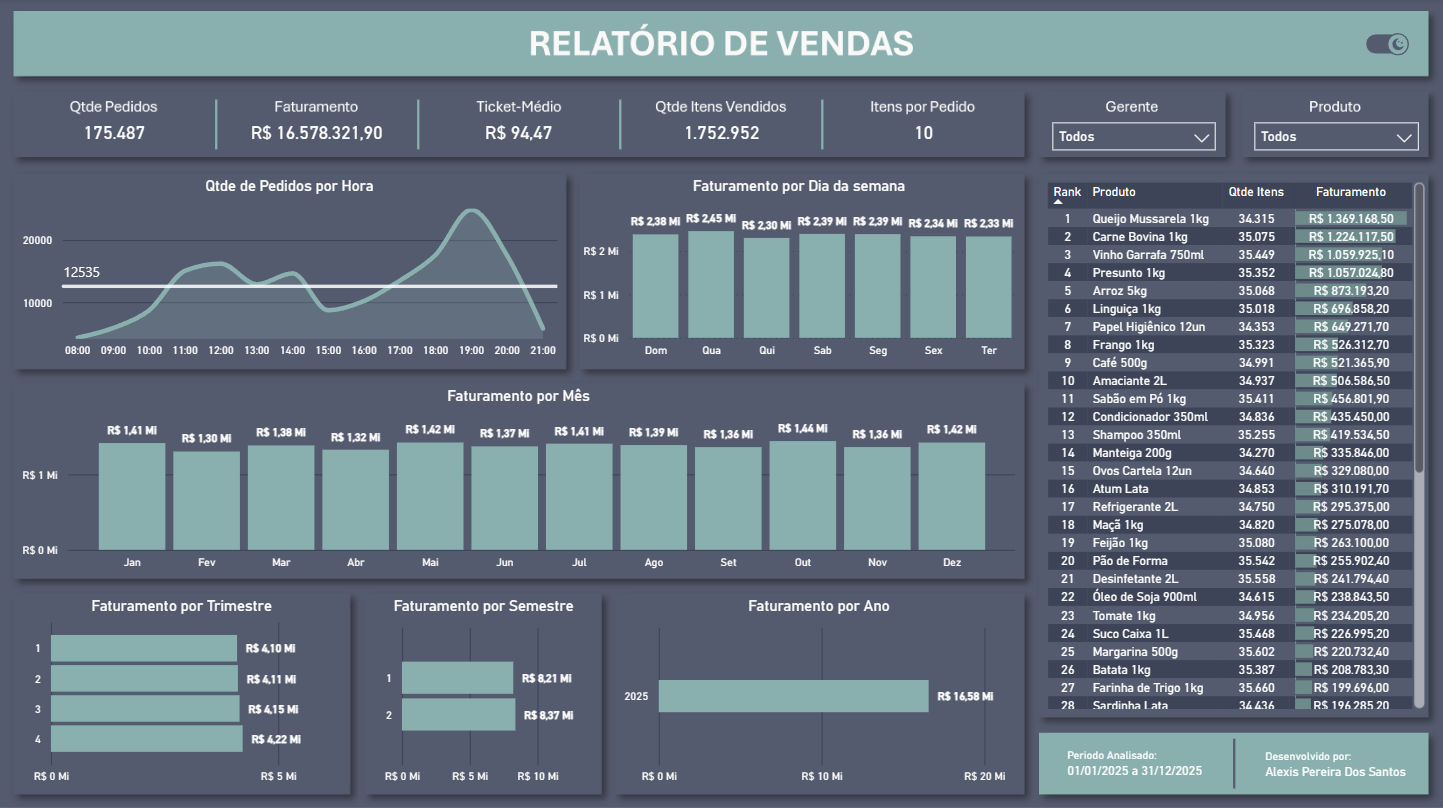

The page's visual inventory and layout, read from the dashboard file:
{"tool":"powerbi","page":{"name":"RELATORIO_BI_Dark","canvas":[1280,720],"ordinal":1},"visuals":[{"type":"columnChart","title":"Faturamento por Dia da semana","fields":{"Category":["gold dim_calendario.dia_nome"],"Y":["gold fato_vendas.Faturamento"]},"box":[511.8,158.2,393.6,167.3],"z":0},{"type":"cardVisual","fields":{"Data":["gold fato_vendas.Faturamento"]},"box":[193.8,95,173,44],"z":1000},{"type":"cardVisual","fields":{"Data":["gold fato_vendas.QTD_PEDIDOS"]},"box":[14.7,95,172.7,44],"z":2000},{"type":"cardVisual","fields":{"Data":["gold fato_vendas.QTD_ITENS"]},"box":[553.2,95,173,44],"z":3000},{"type":"cardVisual","fields":{"Data":["gold fato_vendas.ITENS_P_PEDIDO"]},"box":[732.7,95,173.3,44],"z":4000},{"type":"cardVisual","fields":{"Data":["gold fato_vendas.TICKET_MÉDIO"]},"box":[373.3,95,173.3,44],"z":5000},{"type":"columnChart","title":"Faturamento por Mês","fields":{"Category":["gold dim_calendario.mes_abreviado"],"Y":["gold fato_vendas.Faturamento"]},"box":[14.4,343.8,891.2,169.4],"z":6000},{"type":"clusteredBarChart","title":"Faturamento por Ano","fields":{"Category":["gold dim_calendario.ano"],"Y":["gold fato_vendas.Faturamento"]},"box":[547.5,530.6,358.1,172.5],"z":7000},{"type":"clusteredBarChart","title":"Faturamento por Semestre","fields":{"Category":["gold dim_calendario.semestre"],"Y":["gold fato_vendas.Faturamento"]},"box":[325,530.6,206.9,172.5],"z":8000},{"type":"slicer","fields":{"Values":["gold dim_lojas.gerente"]},"box":[922.9,99.2,165.3,39.5],"z":9000},{"type":"slicer","fields":{"Values":["gold dim_produtos.produto"]},"box":[1101.8,99.2,165.8,39.5],"z":10000},{"type":"clusteredBarChart","title":"Faturamento por Trimestre","fields":{"Category":["gold dim_calendario.trimestre"],"Y":["gold fato_vendas.Faturamento"]},"box":[14.4,530.6,293.8,172.5],"z":11000},{"type":"image","box":[1210,30,40,20],"z":12000},{"type":"tableEx","fields":{"Values":["gold fato_vendas.RANK_PROD","gold dim_produtos.produto","gold fato_vendas.QTD_ITENS","gold fato_vendas.Faturamento"]},"box":[922.7,158.2,344.5,476.4],"z":13000},{"type":"cardVisual","fields":{"Data":["gold dim_calendario.data_inicio"]},"box":[928.7,657.2,156.7,41.4],"z":14000},{"type":"cardVisual","fields":{"Data":["gold dim_calendario.Desenvolvido"]},"box":[1105,658,161,41],"z":15000},{"type":"lineChart","title":"Qtde de Pedidos por Hora","fields":{"Category":["gold fato_vendas.inicio_hora"],"Y":["gold fato_vendas.QTD_PEDIDOS"]},"box":[14.4,158.1,485,167.5],"z":16000}]}

Visuals, with their boxes in screenshot pixels (x1, y1, x2, y2), scaled from the page's 1280x720 canvas onto the 1443x808 screenshot:
"Faturamento por Dia da semana" columnChart: x1=577 y1=178 x2=1021 y2=365
cardVisual - gold fato_vendas.Faturamento: x1=218 y1=107 x2=414 y2=156
cardVisual - gold fato_vendas.QTD_PEDIDOS: x1=17 y1=107 x2=211 y2=156
cardVisual - gold fato_vendas.QTD_ITENS: x1=624 y1=107 x2=819 y2=156
cardVisual - gold fato_vendas.ITENS_P_PEDIDO: x1=826 y1=107 x2=1021 y2=156
cardVisual - gold fato_vendas.TICKET_MÉDIO: x1=421 y1=107 x2=616 y2=156
"Faturamento por Mês" columnChart: x1=16 y1=386 x2=1021 y2=576
"Faturamento por Ano" clusteredBarChart: x1=617 y1=595 x2=1021 y2=789
"Faturamento por Semestre" clusteredBarChart: x1=366 y1=595 x2=600 y2=789
slicer - gold dim_lojas.gerente: x1=1040 y1=111 x2=1227 y2=156
slicer - gold dim_produtos.produto: x1=1242 y1=111 x2=1429 y2=156
"Faturamento por Trimestre" clusteredBarChart: x1=16 y1=595 x2=347 y2=789
image: x1=1364 y1=34 x2=1409 y2=56
tableEx - gold fato_vendas.RANK_PROD x gold dim_produtos.produto: x1=1040 y1=178 x2=1429 y2=712
cardVisual - gold dim_calendario.data_inicio: x1=1047 y1=738 x2=1224 y2=784
cardVisual - gold dim_calendario.Desenvolvido: x1=1246 y1=738 x2=1427 y2=784
"Qtde de Pedidos por Hora" lineChart: x1=16 y1=177 x2=563 y2=365
